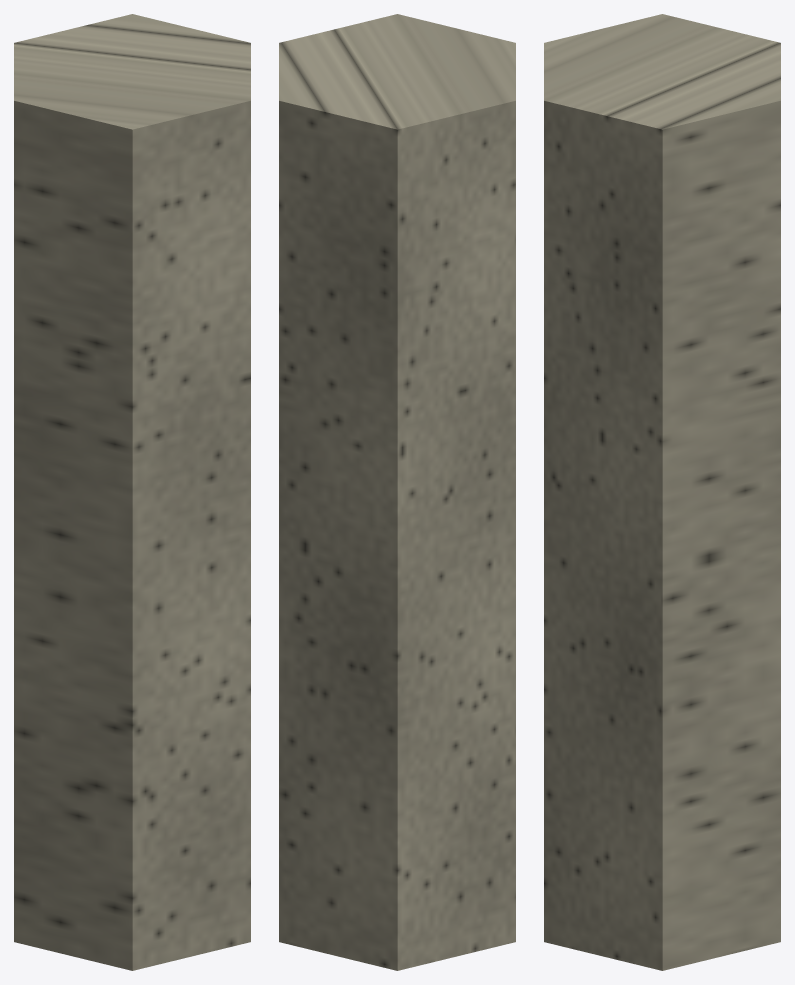
The model's file is PROP-994B2FFBFC1E_lod2.glb.
The picture shows the model from 3 angles, left to right: view 1: azimuth 30°, elevation 25°; view 2: azimuth 150°, elevation 25°; view 3: azimuth 270°, elevation 25°; orthographic projection.
Visible parts, largest first — view 1: bollard.001; view 2: bollard.001; view 3: bollard.001.
Boxes of the visible parts, x1,y1,x2,y2 form: bollard.001: [14, 14, 250, 970]; bollard.001: [279, 14, 515, 970]; bollard.001: [544, 14, 780, 970].
Bounding box in the file's own units: 0.28 × 0.95 × 0.2425.
Materials: 1 (1 with a texture image).
